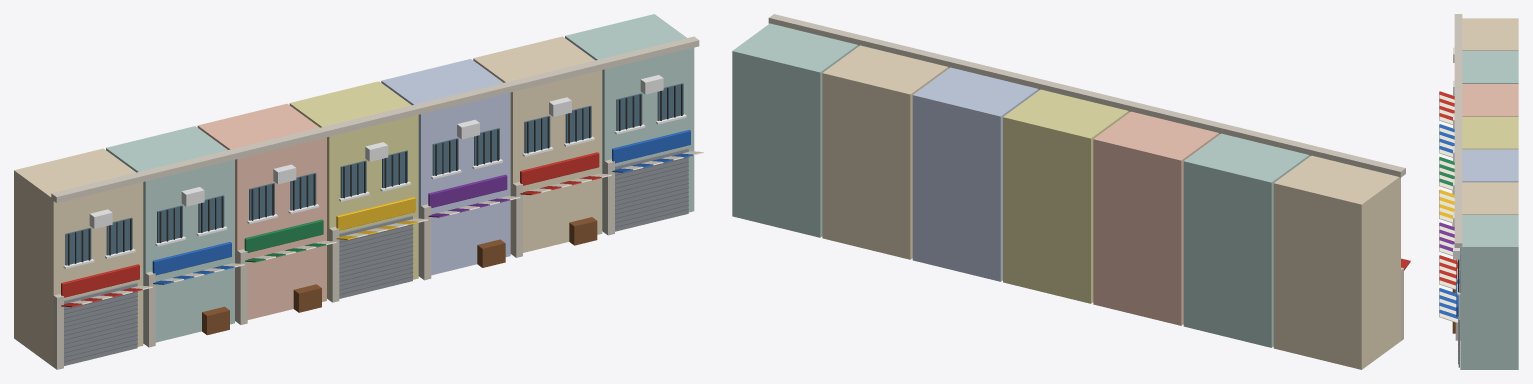
Rendered from shophouses.glb.
The picture shows the model from 3 angles, left to right: view 1: azimuth 30°, elevation 25°; view 2: azimuth 150°, elevation 25°; view 3: azimuth 270°, elevation 25°; orthographic projection. The views are drawn at different scales.
Visible parts, largest first — view 1: shophouses; view 2: shophouses; view 3: shophouses.
Boxes of the visible parts, bbox=[...] form: shophouses: bbox=[14, 14, 703, 369]; shophouses: bbox=[732, 14, 1410, 369]; shophouses: bbox=[1439, 14, 1518, 369].
Size of the model in its own units: 28 by 7.22 by 4.08.
